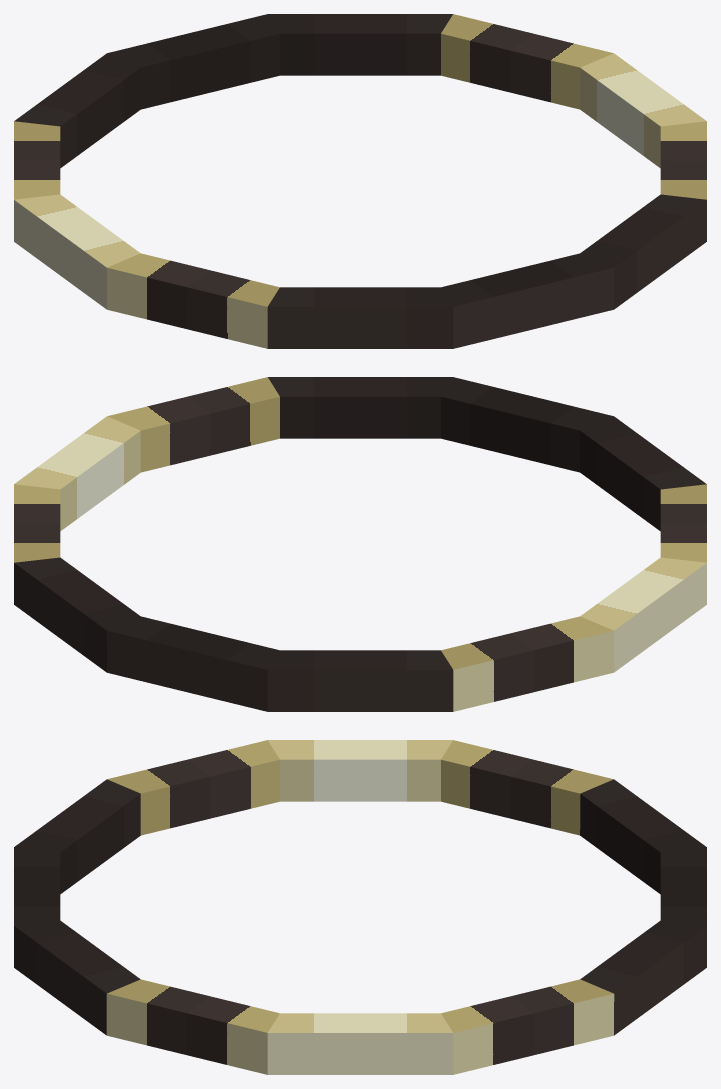
Rendered from eldrin_orrery_ring_small.obj.
3 renders of one model, top to bottom at view 1: azimuth 30°, elevation 25°; view 2: azimuth 150°, elevation 25°; view 3: azimuth 270°, elevation 25°, orthographic.
Parts seen in each view (by area): view 1: ELDRIN_ORRERY_RING_SUNMOON_Plane.021; view 2: ELDRIN_ORRERY_RING_SUNMOON_Plane.021; view 3: ELDRIN_ORRERY_RING_SUNMOON_Plane.021.
Part boxes in pixels (bbox=[...]): ELDRIN_ORRERY_RING_SUNMOON_Plane.021: bbox=[14, 14, 706, 348]; ELDRIN_ORRERY_RING_SUNMOON_Plane.021: bbox=[14, 377, 706, 711]; ELDRIN_ORRERY_RING_SUNMOON_Plane.021: bbox=[14, 740, 706, 1074].
Bounding box in the file's own units: 0.9343 × 0.0625 × 0.9342.
